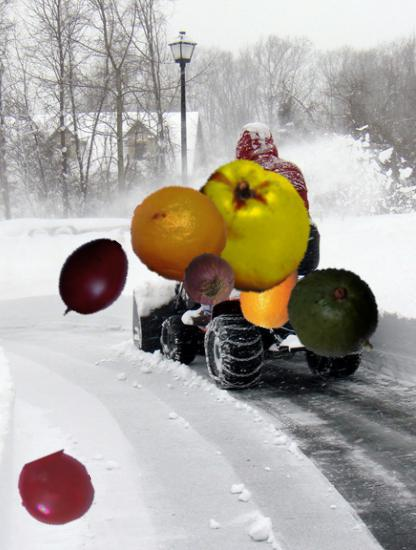Avocado: (287, 266, 384, 363)
Kumquats: (228, 246, 313, 331)
Lemon: (129, 184, 227, 282)
Onion: (181, 253, 238, 310)
Quince: (179, 159, 315, 295)
Redcurrant: (19, 453, 93, 527)
Tamarillo: (46, 234, 138, 326)
